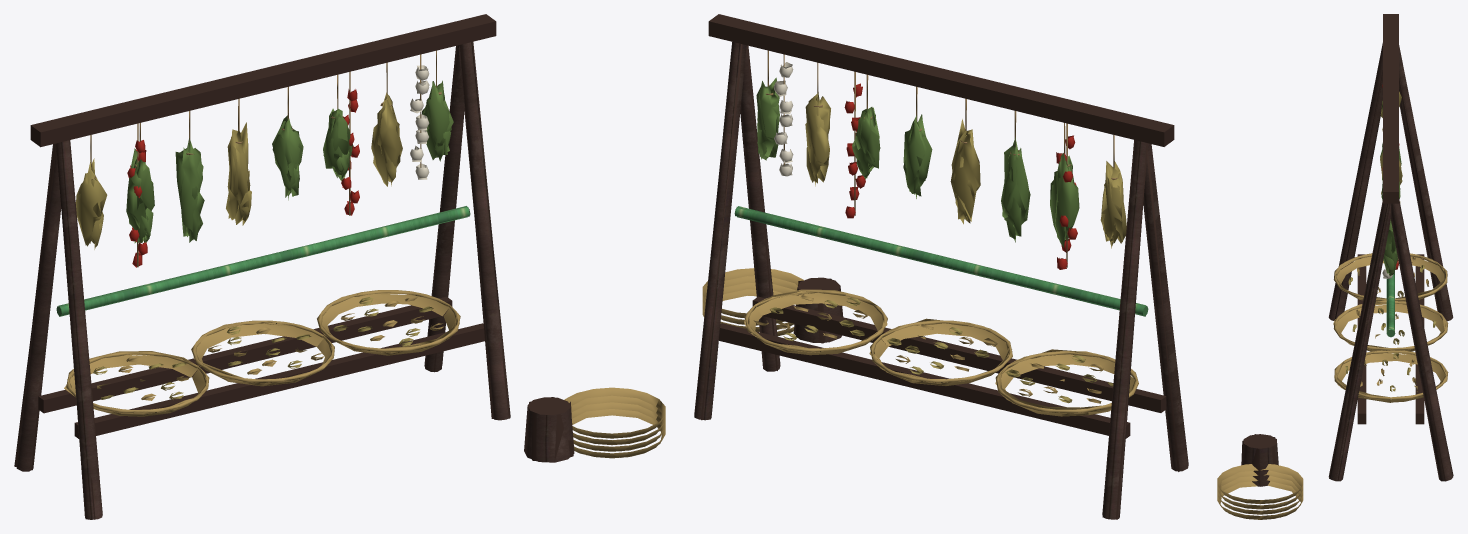
The model's file is prop_drying_rack.gltf.
The picture shows the model from 3 angles, left to right: view 1: azimuth 30°, elevation 25°; view 2: azimuth 150°, elevation 25°; view 3: azimuth 270°, elevation 25°; orthographic projection. The views are drawn at different scales.
Parts seen in each view (by area): view 1: Near, Far; view 2: Near, Far; view 3: Near, Far.
Boxes of the visible parts, x1=… form: Near: x1=16, y1=42, x2=662, y2=519; Far: x1=14, y1=14, x2=665, y2=519; Near: x1=694, y1=42, x2=1188, y2=519; Far: x1=694, y1=14, x2=1179, y2=519; Near: x1=1220, y1=43, x2=1453, y2=519; Far: x1=1217, y1=14, x2=1453, y2=519.
Size of the model in its own units: 3.45 by 2.25 by 1.63.
Materials: 9 (2 with a texture image).
